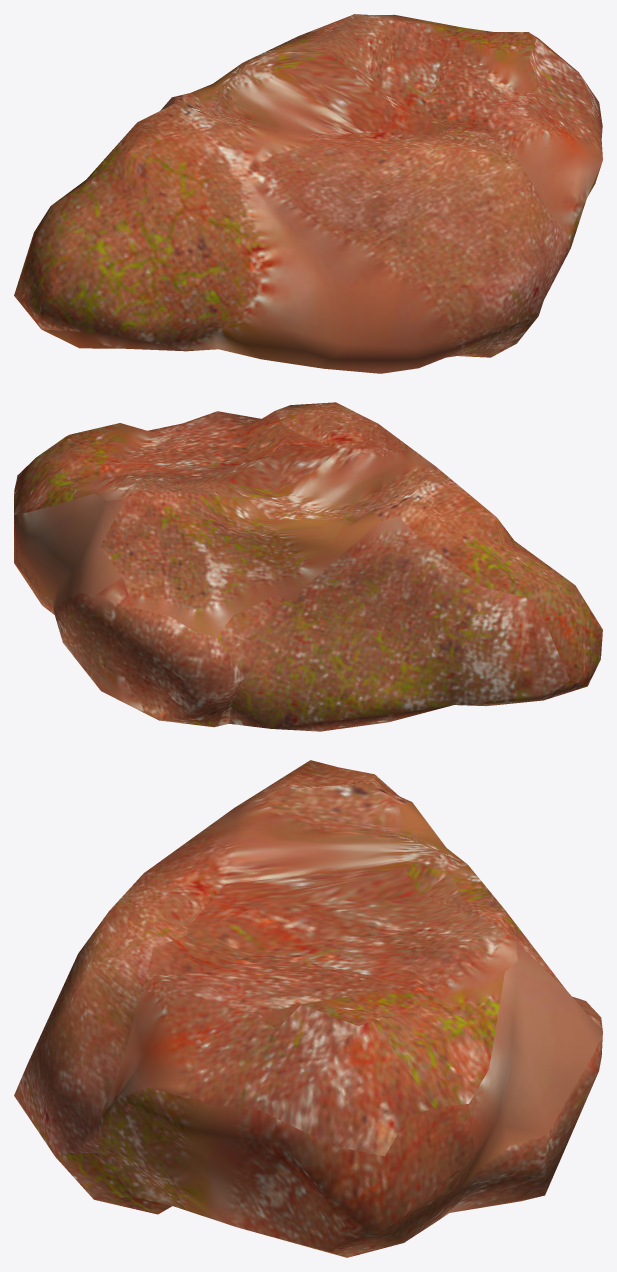
Rendered from piece2.glb.
3 views of the same model, one above another, from view 1: azimuth 30°, elevation 25°; view 2: azimuth 150°, elevation 25°; view 3: azimuth 270°, elevation 25° (orthographic). The views are drawn at different scales.
Parts seen in each view (by area): view 1: Aset_nature_rock_S_wdcbcds_00_LOD3; view 2: Aset_nature_rock_S_wdcbcds_00_LOD3; view 3: Aset_nature_rock_S_wdcbcds_00_LOD3.
Part boxes in pixels (x1,y1,x2,y2): Aset_nature_rock_S_wdcbcds_00_LOD3: [14, 14, 602, 373]; Aset_nature_rock_S_wdcbcds_00_LOD3: [14, 402, 602, 731]; Aset_nature_rock_S_wdcbcds_00_LOD3: [14, 760, 602, 1257].
Size of the model in its own units: 0.8784 by 0.3293 by 0.6143.
Materials: 1 (1 with a texture image).
